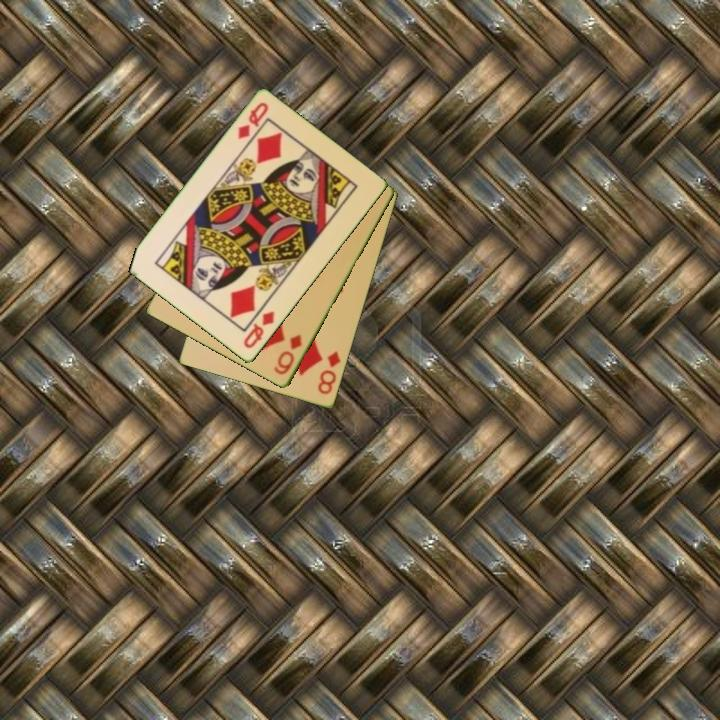6d: (271, 331, 305, 378)
8d: (314, 348, 344, 398)
Qd: (240, 308, 278, 352), (234, 99, 272, 143)
